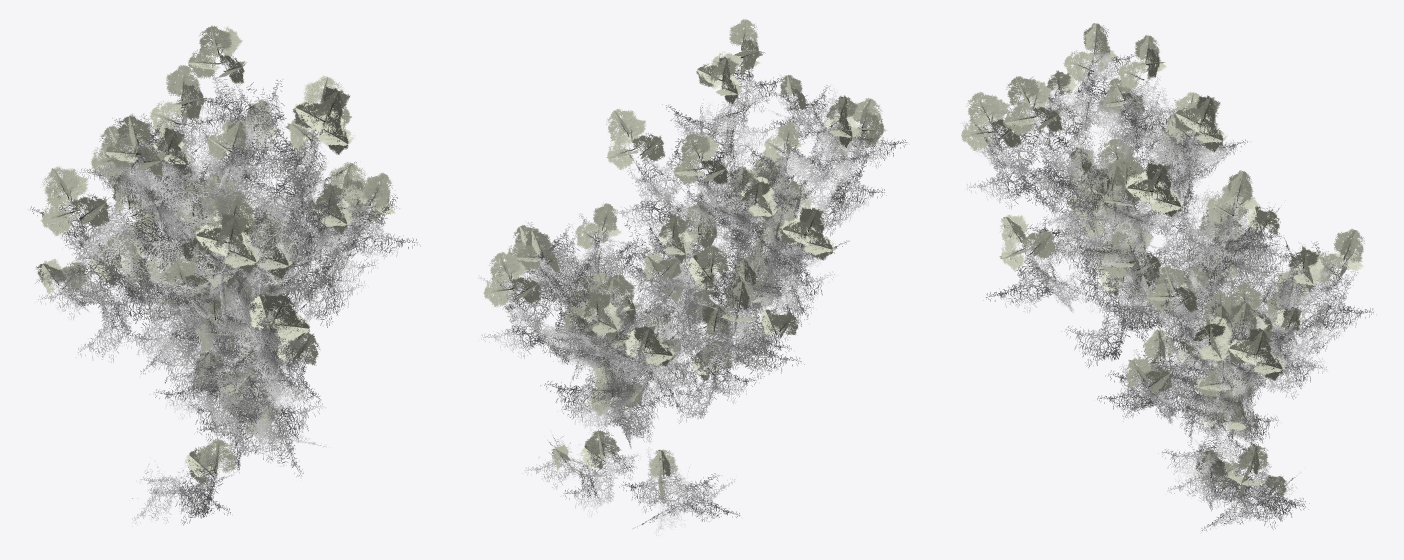
Rendered from MESH_OC56_MelaleucaAlternifolia_Y_LOD1.fbx.
The picture shows the model from 3 angles, left to right: view 1: azimuth 30°, elevation 25°; view 2: azimuth 150°, elevation 25°; view 3: azimuth 270°, elevation 25°; orthographic projection. The views are drawn at different scales.
Visible parts, largest first — view 1: MI_LOD1_001, MI_LOD1_002; view 2: MI_LOD1_001, MI_LOD1_002; view 3: MI_LOD1_001, MI_LOD1_002.
Part boxes in pixels (box(x1,y1,x2,y2)): MI_LOD1_001: box(30, 65, 420, 525); MI_LOD1_002: box(36, 25, 395, 484); MI_LOD1_001: box(478, 49, 907, 536); MI_LOD1_002: box(483, 19, 887, 498); MI_LOD1_001: box(960, 25, 1376, 530); MI_LOD1_002: box(961, 23, 1364, 496).
Size of what is drawn, in the model's own units: 252 by 319 by 263.
